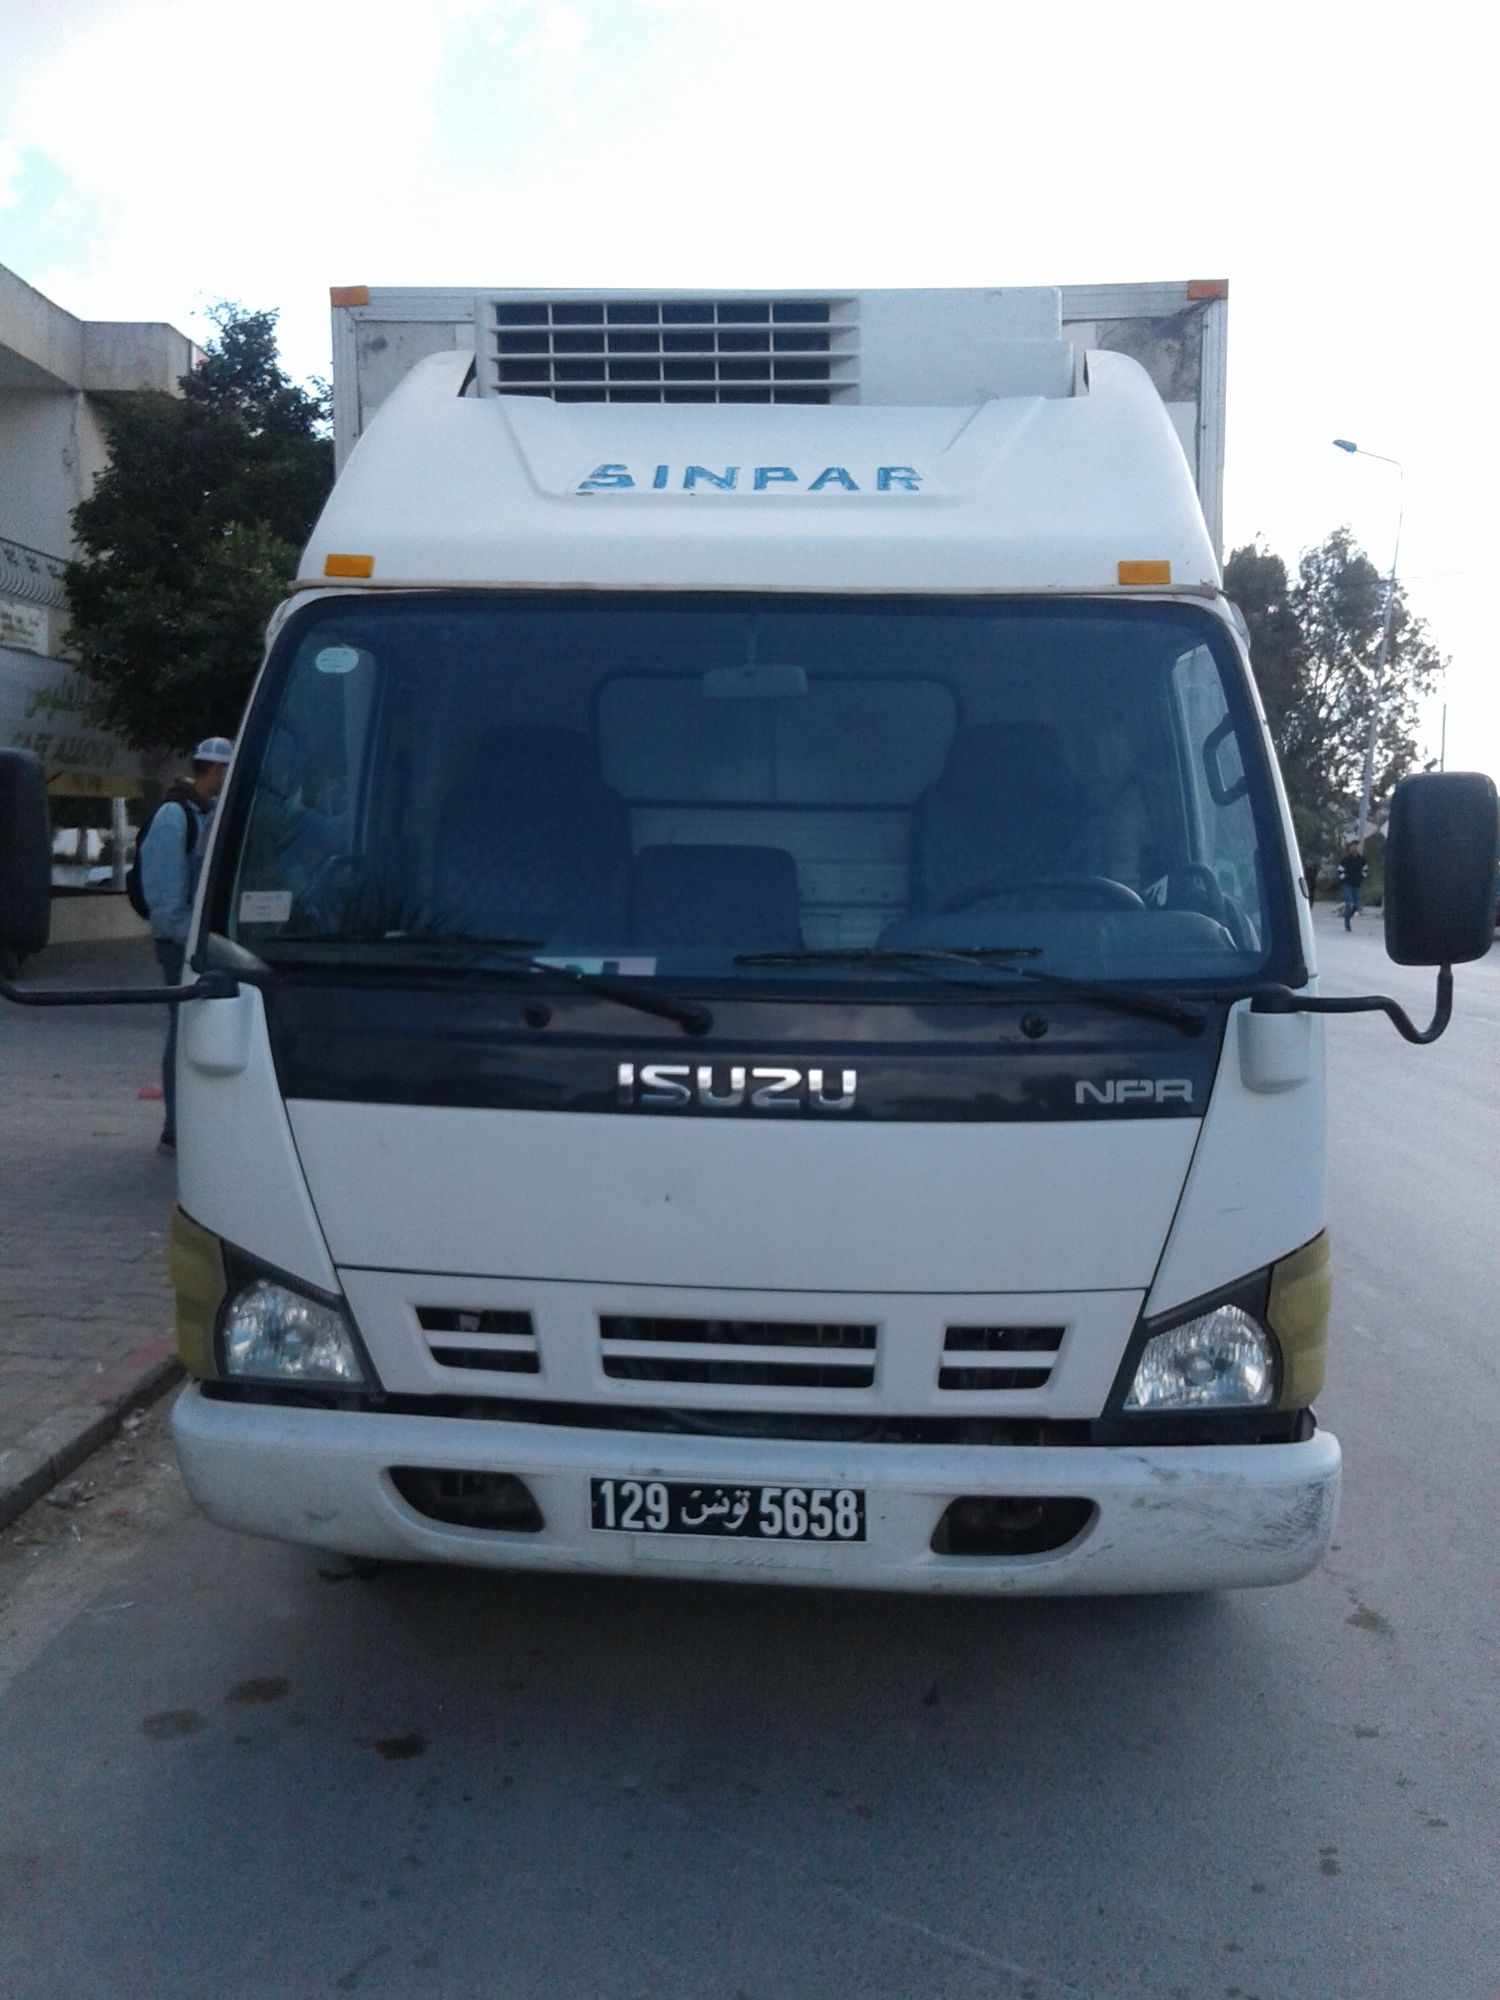LP: (587, 1473, 873, 1545)
